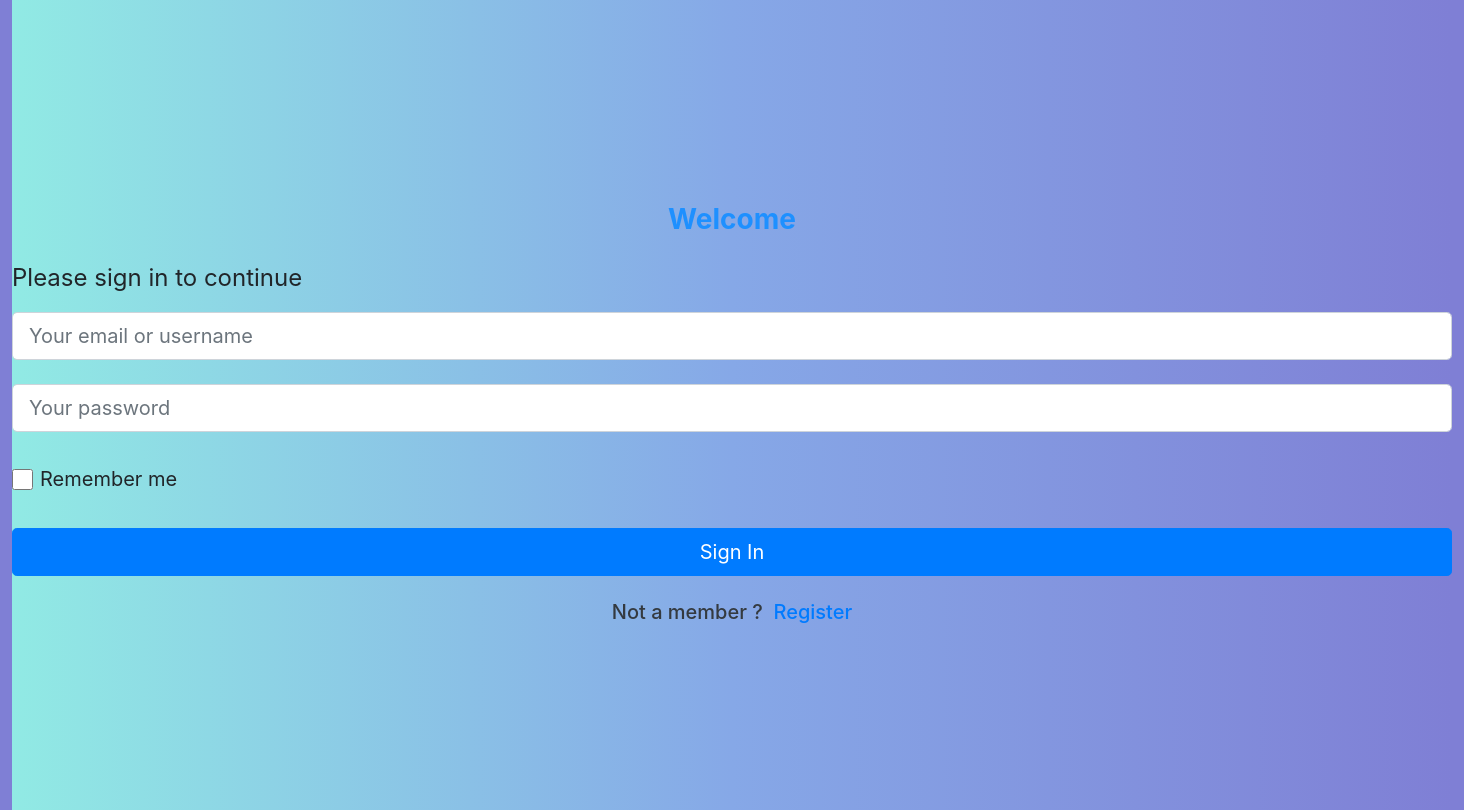
Test: Login Page › Validation messages are displayed on invalid input
This screenshot has width=1464, height=810.
Fire events
Type "a@b" into the field with test id "email".
click(732, 336); type("a@b")  # box [12,312,1452,360]
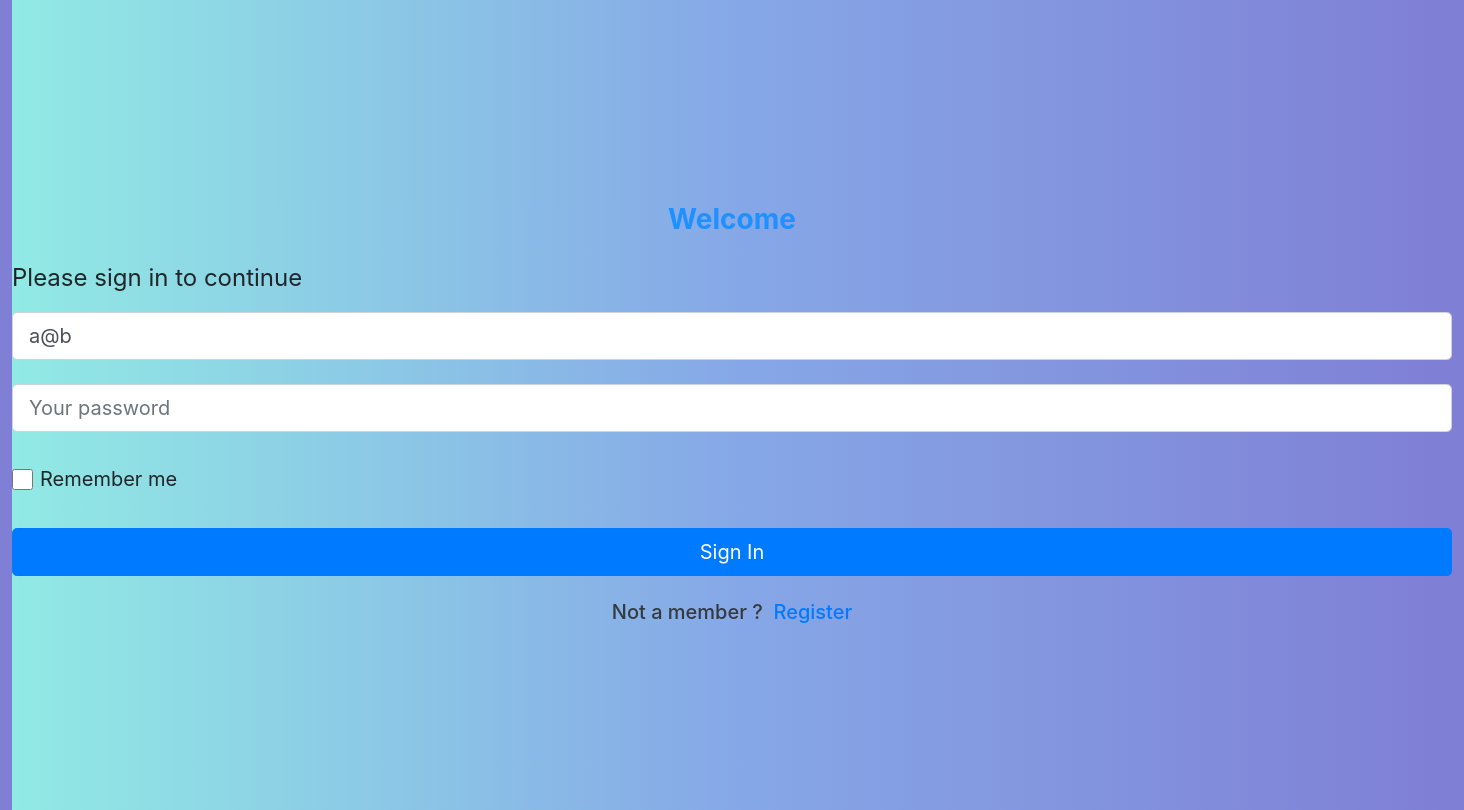
Click the button with test id "submit-btn".
click(732, 552)  # box [12,528,1452,576]
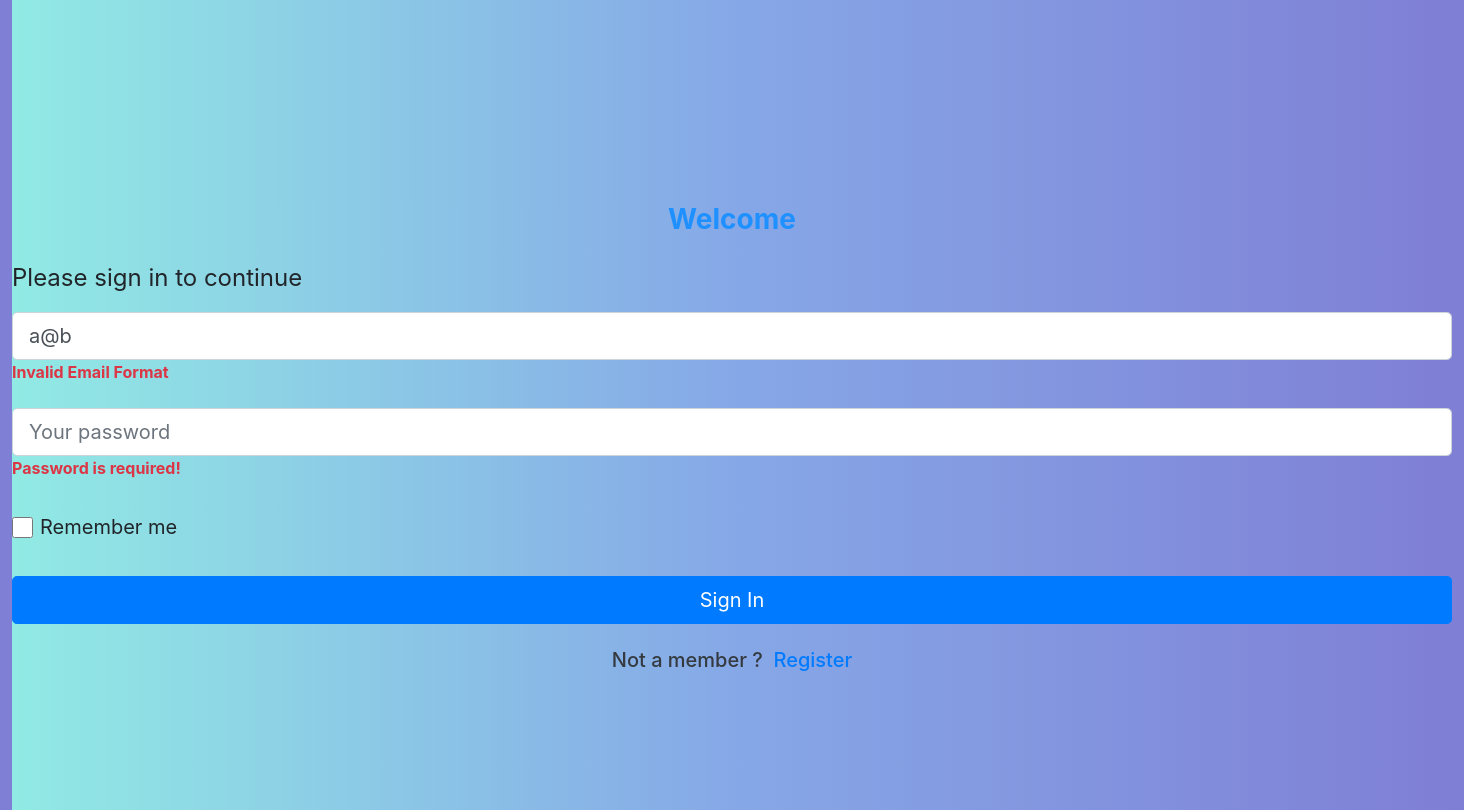
Result: the text with test id "email-error" reads "Invalid Email Format" at [12,362,169,382]
